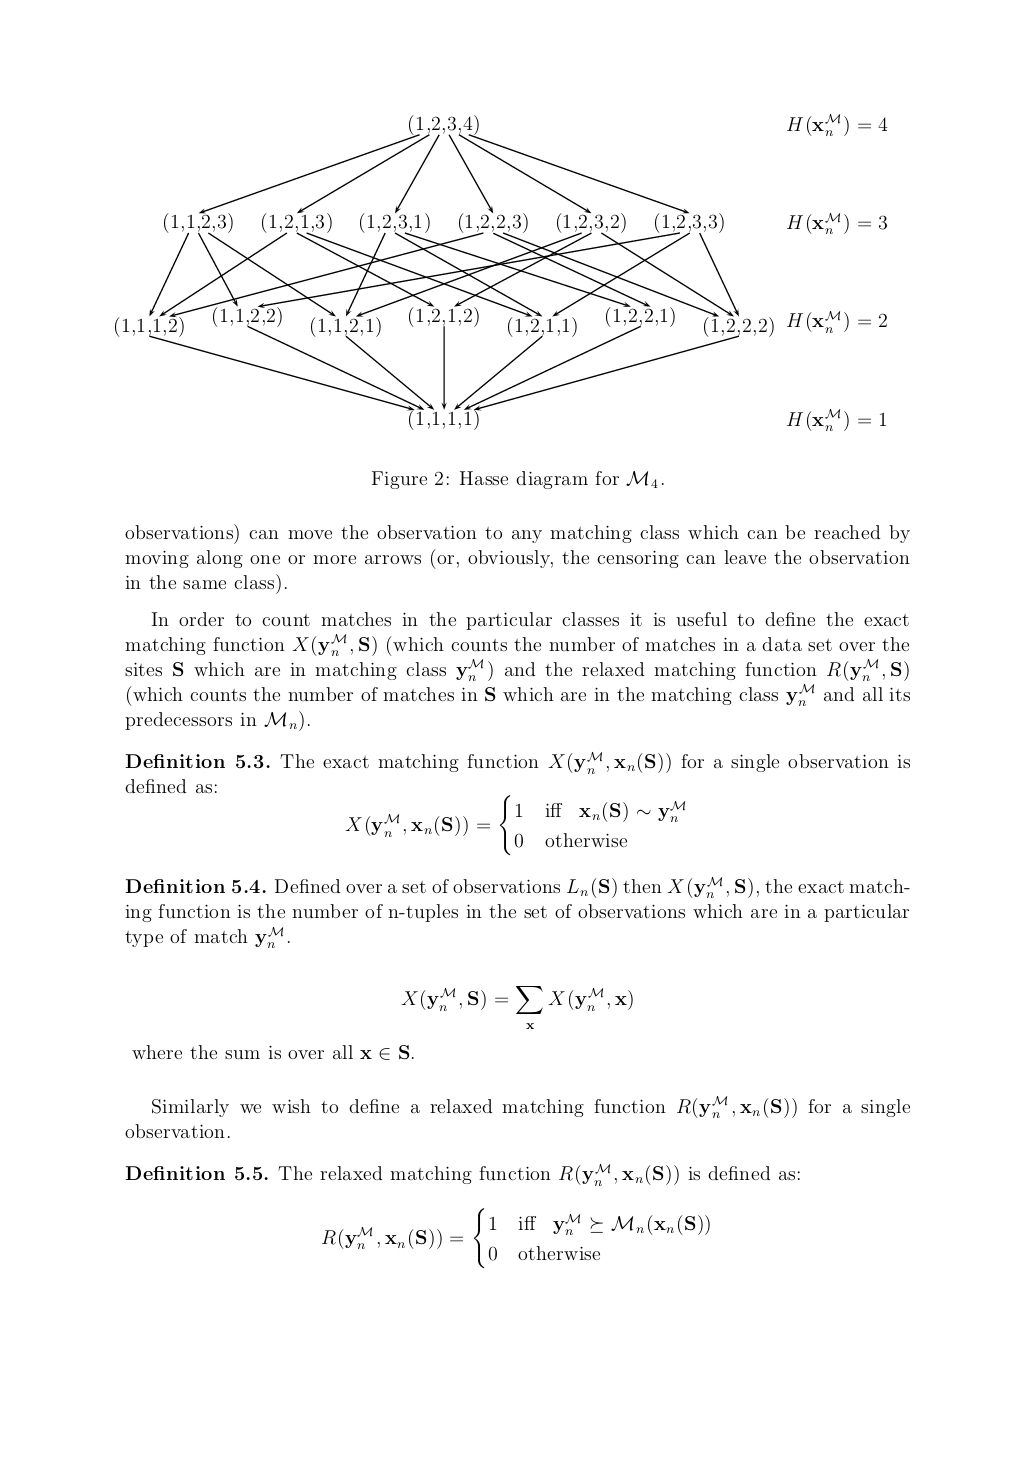figure: (115, 112, 887, 431)
formula: (322, 1207, 709, 1269), (345, 794, 685, 856), (401, 986, 632, 1028)
